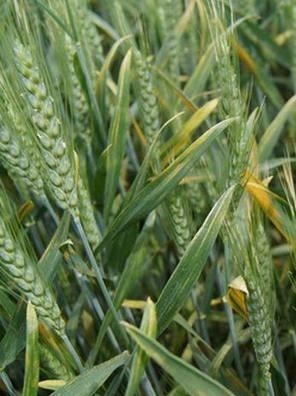Healthy Wheat: (13, 41, 86, 212)
